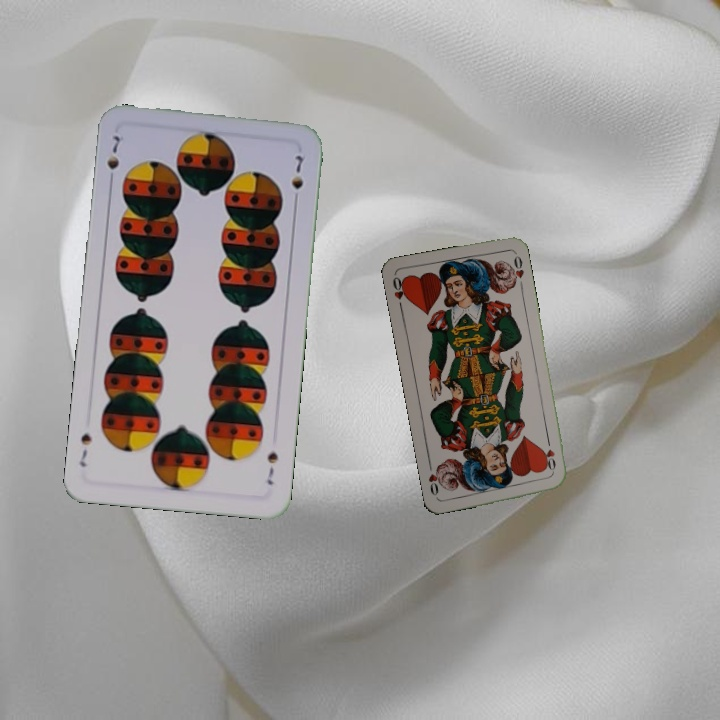HO: (389, 273, 410, 313), (541, 436, 558, 476)
S7: (103, 131, 124, 187), (263, 447, 281, 488)
